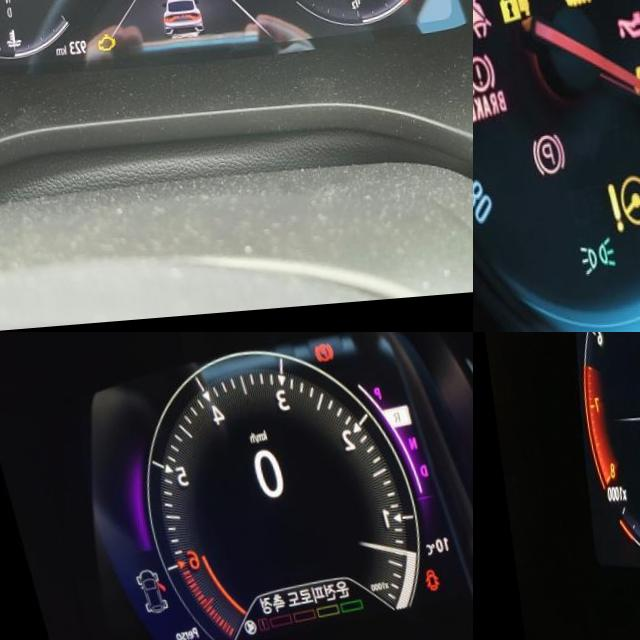Doors: (410, 574, 429, 599)
SideLamp: (566, 240, 603, 280)
